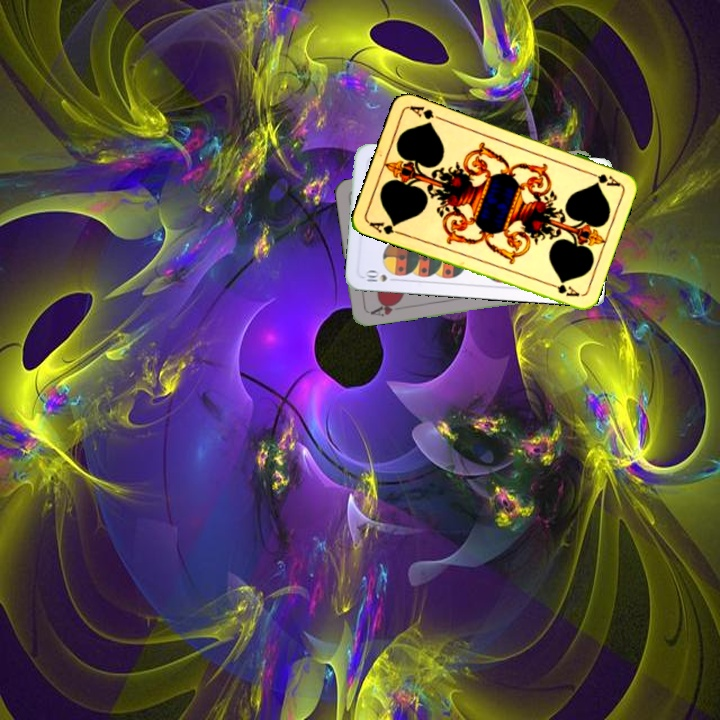GA: (583, 167, 623, 189), (365, 218, 404, 238)
HA: (366, 297, 406, 319)
S10: (360, 267, 400, 285)
